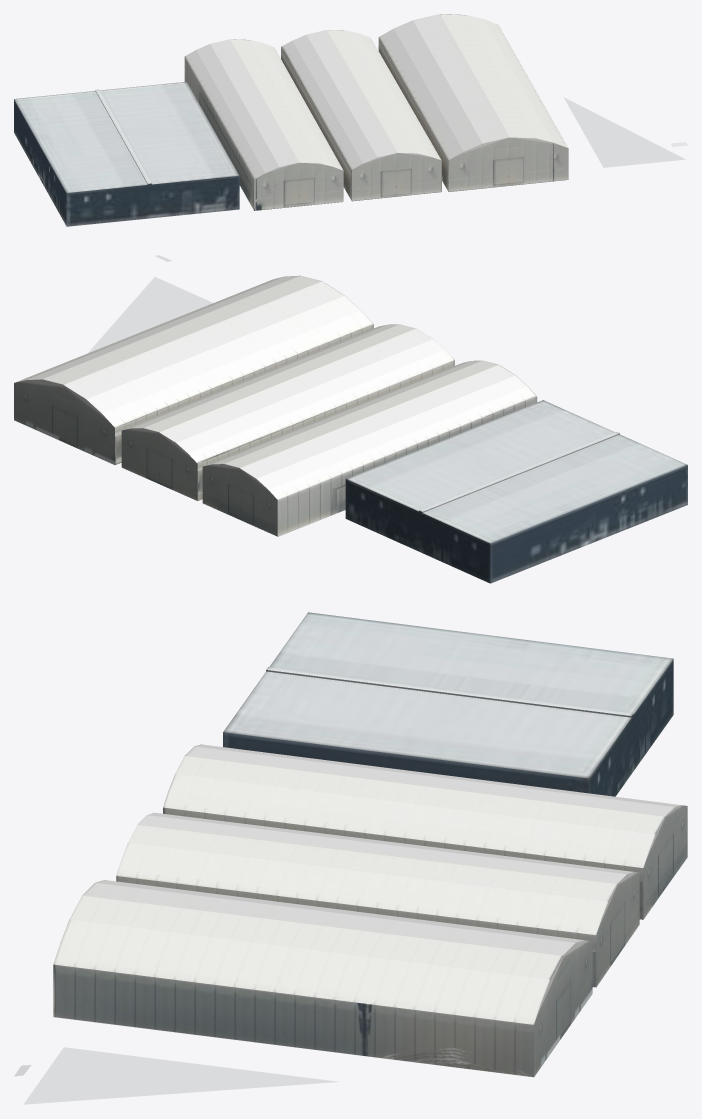
3 views of the same model, one above another, from view 1: azimuth 30°, elevation 25°; view 2: azimuth 150°, elevation 25°; view 3: azimuth 270°, elevation 25° (orthographic). The views are drawn at different scales.
Parts seen in each view (by area): view 1: Buildings_建物パビリオン; view 2: Buildings_建物パビリオン; view 3: Buildings_建物パビリオン.
Part boxes in pixels (x1,y1,x2,y2): Buildings_建物パビリオン: [14, 14, 687, 226]; Buildings_建物パビリオン: [14, 255, 687, 583]; Buildings_建物パビリオン: [14, 612, 687, 1104].
Bounding box in the file's own units: 98.75 × 8.55 × 64.65.
5 materials, 4 textured.
